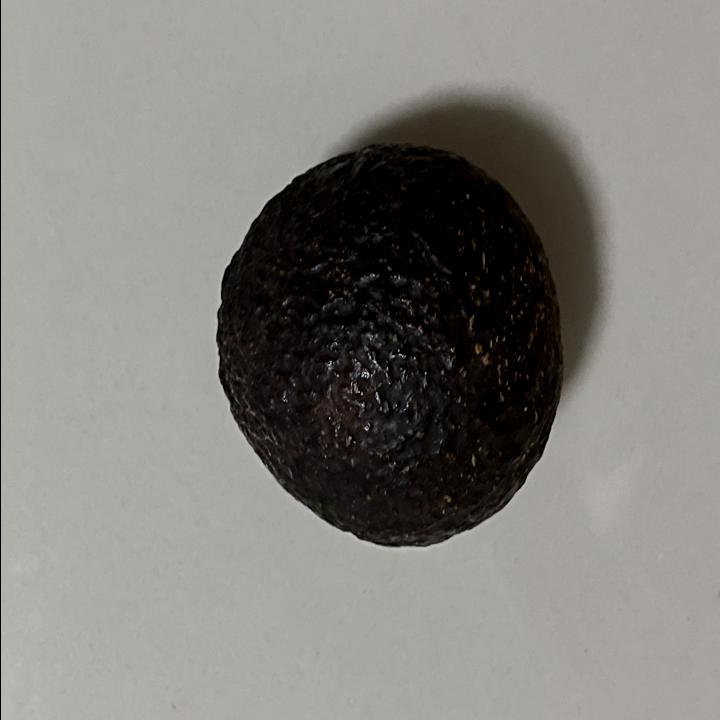Level3: (206, 134, 572, 564)
